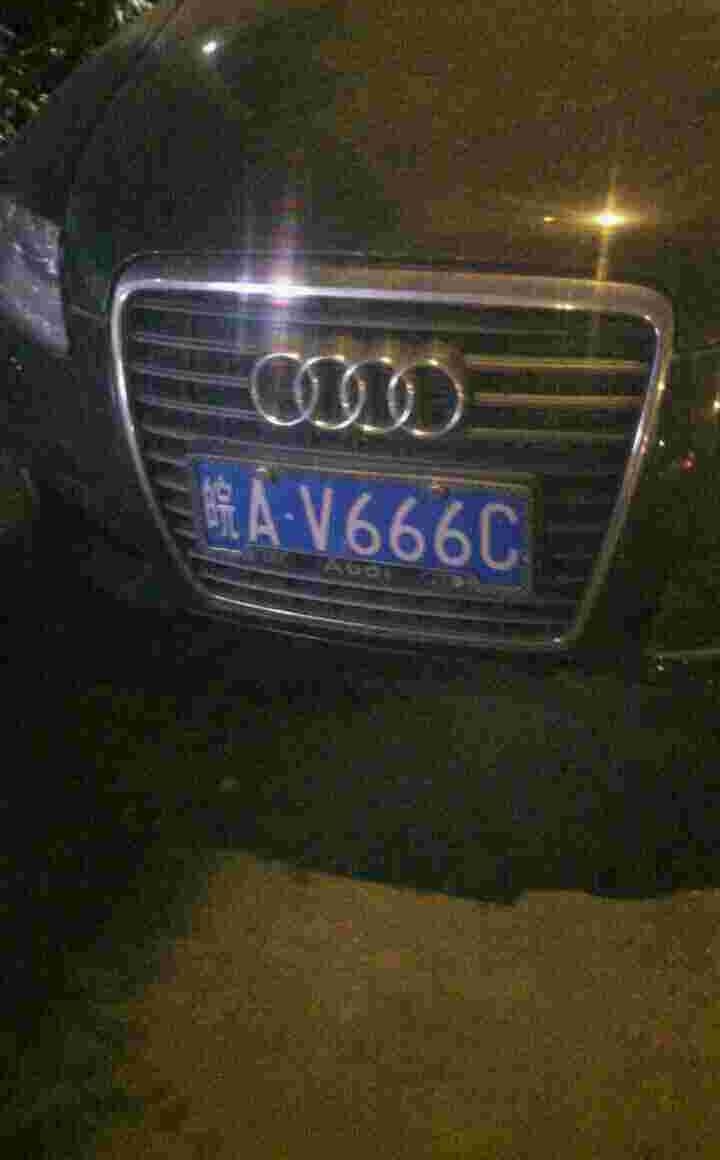license_plate: (189, 461, 529, 586)
